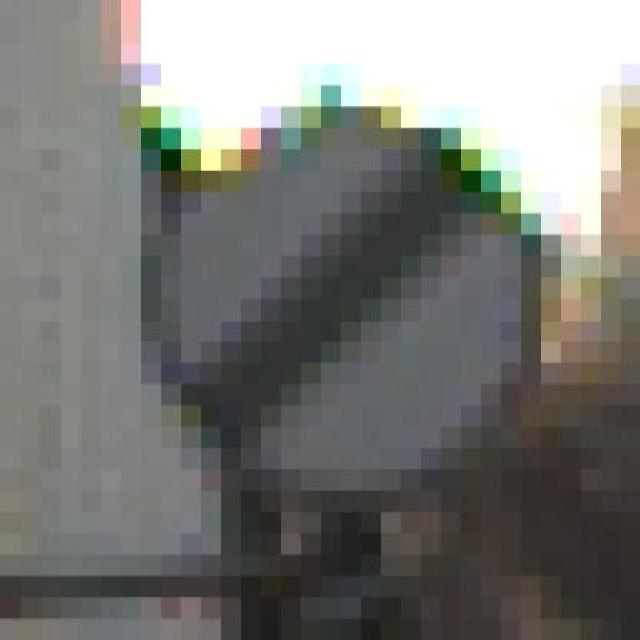End of all speed and passing limits: (100, 63, 580, 554)
